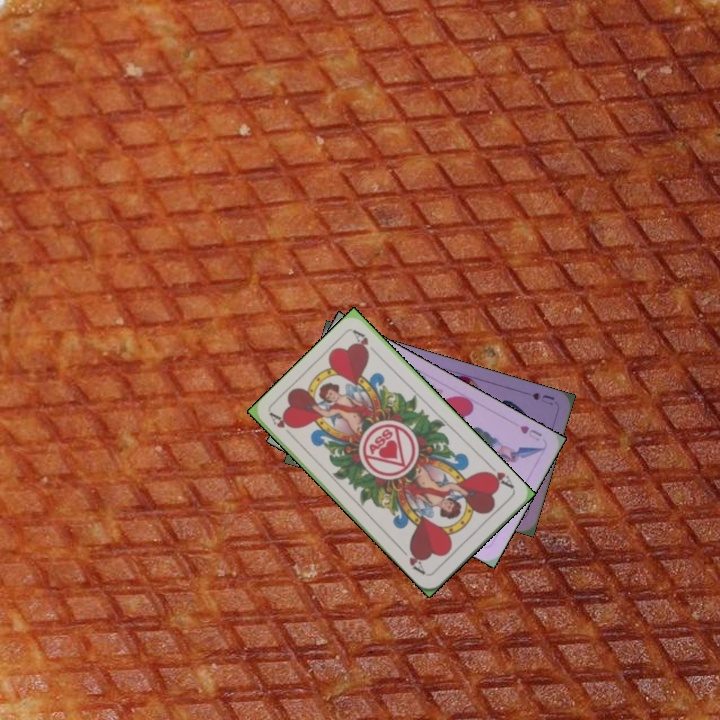HA: (481, 460, 517, 492), (266, 409, 295, 431)
HU: (516, 421, 545, 444)
SU: (528, 388, 557, 408)
